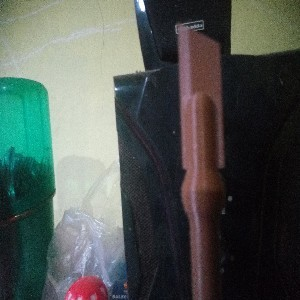cutter: (175, 24, 228, 300)
